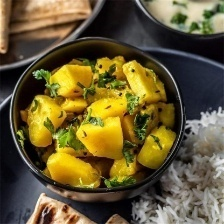rice: (130, 103, 224, 224)
